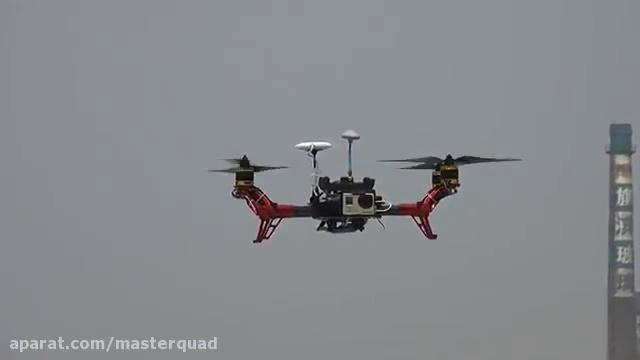drone: (202, 128, 526, 244)
